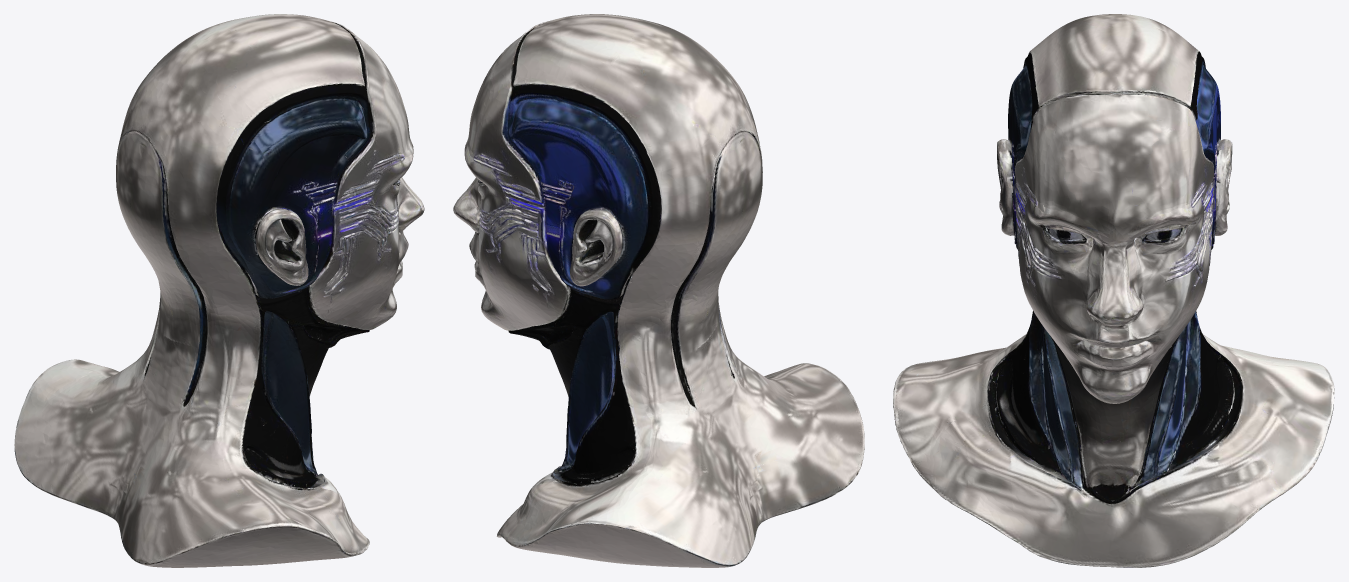
Rendered from Robot Head.glb.
The picture shows the model from 3 angles, left to right: view 1: azimuth 30°, elevation 25°; view 2: azimuth 150°, elevation 25°; view 3: azimuth 270°, elevation 25°; orthographic projection.
Parts seen in each view (by area): view 1: world; view 2: world; view 3: world.
Part boxes in pixels (x1,y1,x2,y2): world: (14, 14, 424, 567); world: (453, 14, 864, 567); world: (893, 14, 1334, 567).
Bounding box in the file's own units: 1.38 × 1.99 × 1.59.
1 material, 1 textured.
